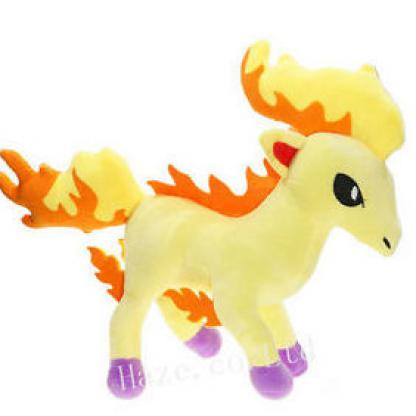Ponyta: (6, 45, 412, 407)
